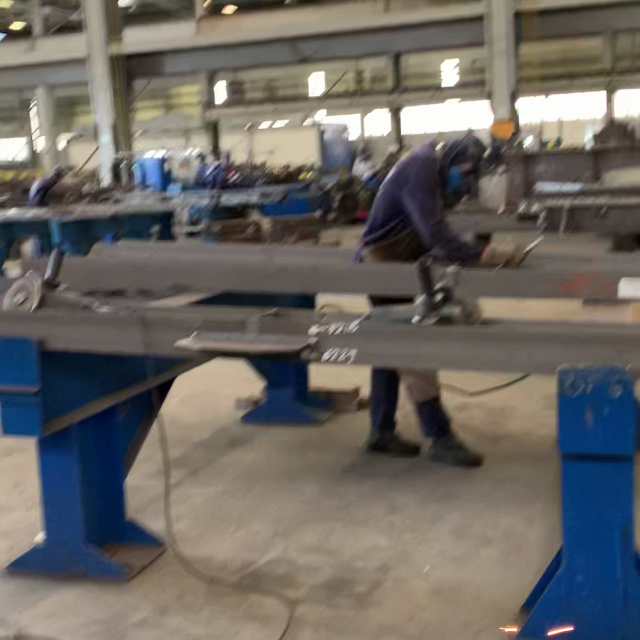face-shield: (457, 164, 510, 214)
helmet: (458, 134, 492, 164)
person: (360, 132, 534, 470)
safety-shoe: (424, 431, 486, 467), (363, 427, 422, 460)
